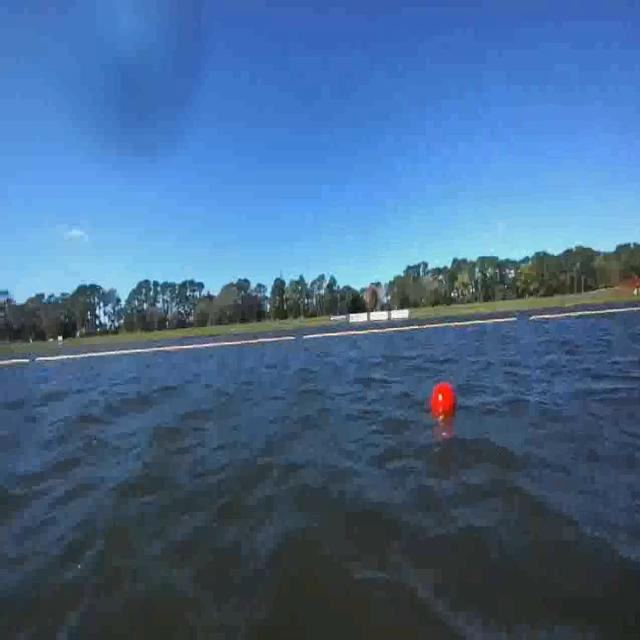red-buoy: (432, 382, 455, 413)
